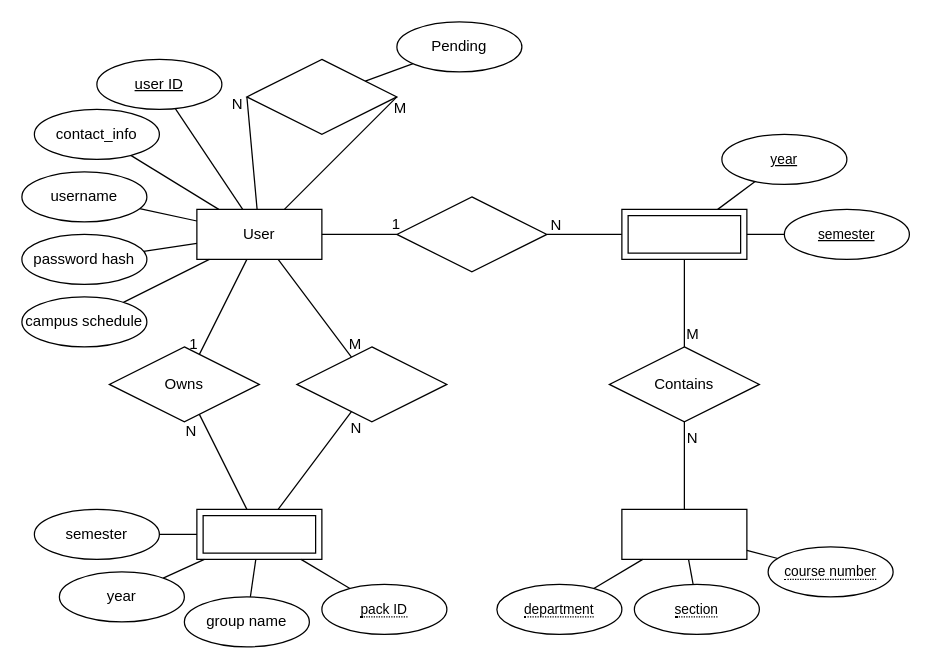
Some shapes in this 931 by 669 pixel diagram are drawn without their labels. The shapes that lost their labels are listed below. From the top down, each one's centre as x and y in pixels, then its label:
At [321,96]: "Is friends with".
At [471,234]: "Has".
At [684,233]: "Course Collection".
At [371,384]: "Includes".
At [259,533]: "Pack".
At [684,533]: "Saved Course".
